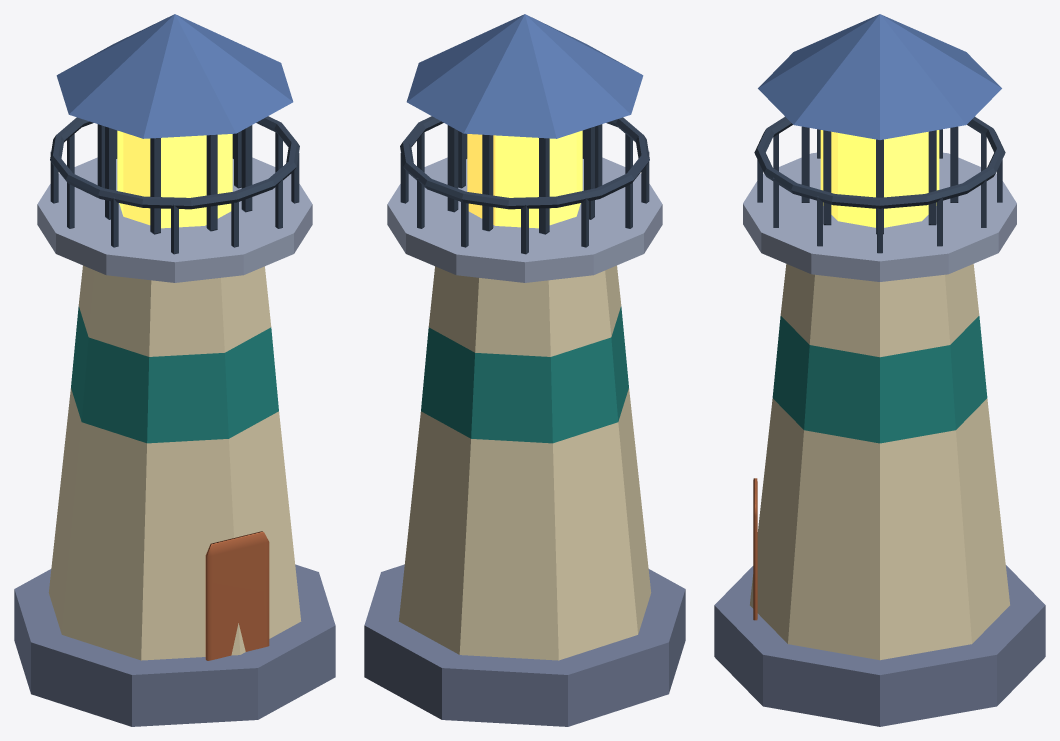
File: harbor-lighthouse.glb
The picture shows the model from 3 angles, left to right: view 1: azimuth 30°, elevation 25°; view 2: azimuth 150°, elevation 25°; view 3: azimuth 270°, elevation 25°; orthographic projection.
Parts seen in each view (by area): view 1: Tower lower, Octagonal footing, Lantern cap, Tower band, Lantern balcony, Tower upper, Door, Lantern glow, Balcony rail, Lantern frame.006, Lantern frame.005, Lantern frame.007 (+1 smaller); view 2: Tower lower, Octagonal footing, Lantern cap, Tower band, Lantern balcony, Tower upper, Lantern glow, Balcony rail, Lantern frame.002, Lantern frame.003, Lantern frame.001, Lantern frame.004; view 3: Tower lower, Octagonal footing, Lantern cap, Tower band, Lantern balcony, Tower upper, Lantern glow, Balcony rail, Lantern frame.001, Lantern frame.007, Door, Lantern frame.002 (+1 smaller).
Part boxes in pixels (x1,y1,x2,y2): Tower lower: (48, 388, 301, 660); Octagonal footing: (14, 564, 335, 726); Lantern cap: (56, 14, 293, 138); Tower band: (71, 306, 278, 443); Lantern balcony: (37, 157, 312, 282); Tower upper: (78, 265, 271, 356); Door: (205, 531, 269, 660); Lantern glow: (117, 130, 232, 228); Balcony rail: (50, 116, 299, 209); Lantern frame.006: (206, 134, 217, 231); Lantern frame.005: (150, 138, 160, 234); Lantern frame.007: (241, 125, 252, 212); Tower lower: (398, 388, 651, 660); Octagonal footing: (364, 564, 685, 726); Lantern cap: (406, 14, 643, 138); Tower band: (421, 306, 628, 443); Lantern balcony: (387, 157, 662, 282); Tower upper: (428, 265, 621, 356); Lantern glow: (467, 130, 582, 228); Balcony rail: (400, 116, 649, 209); Lantern frame.002: (482, 134, 493, 231); Lantern frame.003: (539, 138, 549, 234); Lantern frame.001: (447, 125, 458, 212); Lantern frame.004: (584, 126, 594, 219); Tower lower: (750, 398, 1009, 660); Octagonal footing: (714, 565, 1045, 726); Lantern cap: (758, 14, 1001, 139); Tower band: (772, 316, 987, 443); Lantern balcony: (743, 152, 1016, 281); Tower upper: (780, 264, 979, 357); Lantern glow: (820, 130, 939, 227); Balcony rail: (754, 117, 1005, 208); Lantern frame.001: (928, 130, 936, 225); Lantern frame.007: (823, 130, 831, 225); Door: (753, 478, 757, 620); Lantern frame.002: (950, 126, 958, 202).
Bounding box in the file's own units: 2.9 × 6.21 × 2.9.
